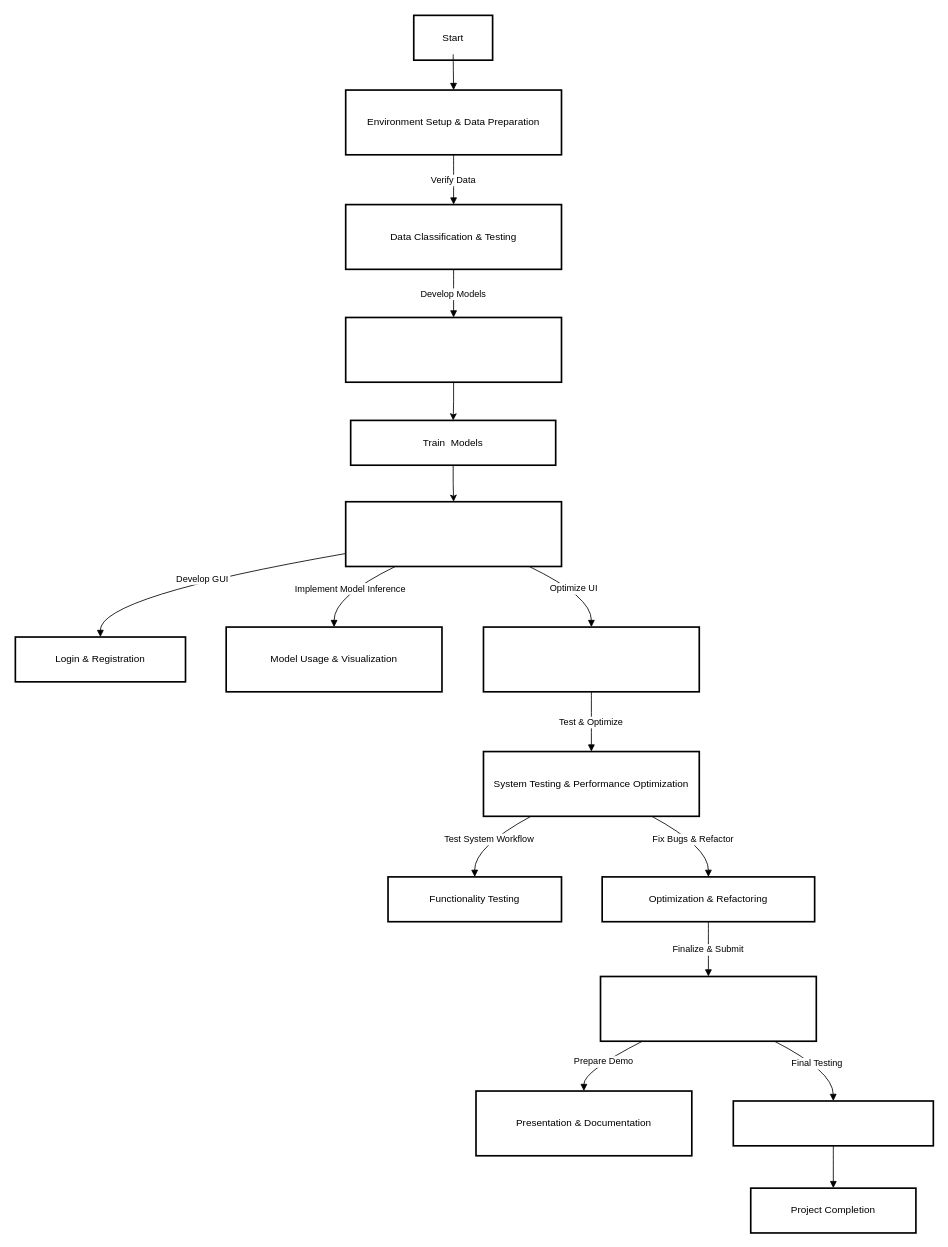
The diagram is 948 pixels wide and 1247 high, and some of its shapes have lost their labels. The shapes that lost their labels are listed below. From the top down, each one's centre as x and y in pixels, then its label:
At [453,349]: "Model Development & Training".
At [453,533]: "System Interface Design & Feature Integration".
At [591,659]: "User Interaction Enhancement".
At [708,1008]: "Project Presentation & Submission".
At [833,1123]: "Final Testing & Packaging".
